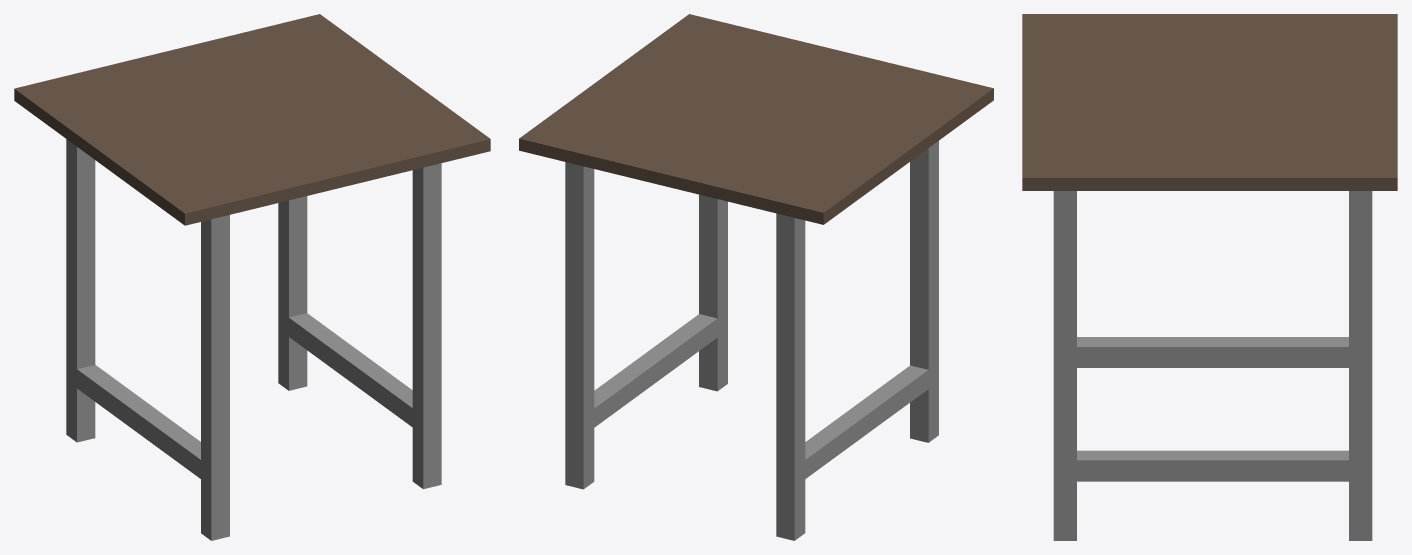
The model's file is Chair_17.fbx.
3 renders of one model, left to right at view 1: azimuth 30°, elevation 25°; view 2: azimuth 150°, elevation 25°; view 3: azimuth 270°, elevation 25°, orthographic. The views are drawn at different scales.
Visible parts, largest first — view 1: Chair_17; view 2: Chair_17; view 3: Chair_17.
Part boxes in pixels (x1,y1,x2,y2): Chair_17: (14, 14, 490, 540); Chair_17: (519, 14, 993, 540); Chair_17: (1022, 14, 1397, 540).
Bounding box in the file's own units: 82.55 × 79.91 × 89.7.
